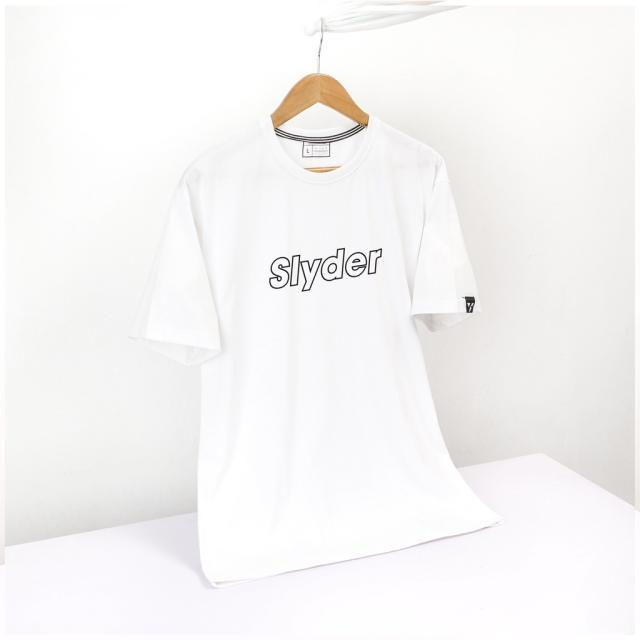Shirt: (138, 111, 511, 589)
